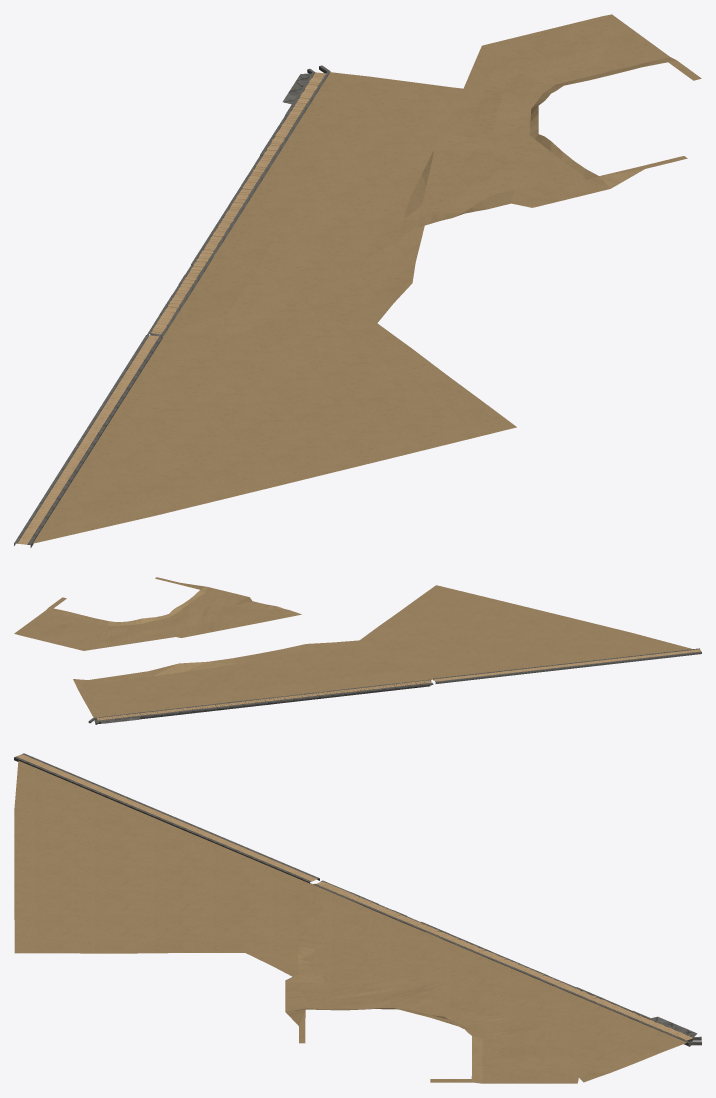
File: SM_ENV_KNVLLG_ground_08.fbx
The picture shows the model from 3 angles, top to bottom: view 1: azimuth 30°, elevation 25°; view 2: azimuth 150°, elevation 25°; view 3: azimuth 270°, elevation 25°; orthographic projection. The views are drawn at different scales.
Visible parts, largest first — view 1: SM_ENV_KNVLLG_ground_08.mo; view 2: SM_ENV_KNVLLG_ground_08.mo; view 3: SM_ENV_KNVLLG_ground_08.mo.
Part boxes in pixels (x1,y1,x2,y2): SM_ENV_KNVLLG_ground_08.mo: (14, 14, 701, 547); SM_ENV_KNVLLG_ground_08.mo: (14, 577, 701, 724); SM_ENV_KNVLLG_ground_08.mo: (14, 753, 701, 1083).
Size of the model in its own units: 20326 by 1410 by 15793.
